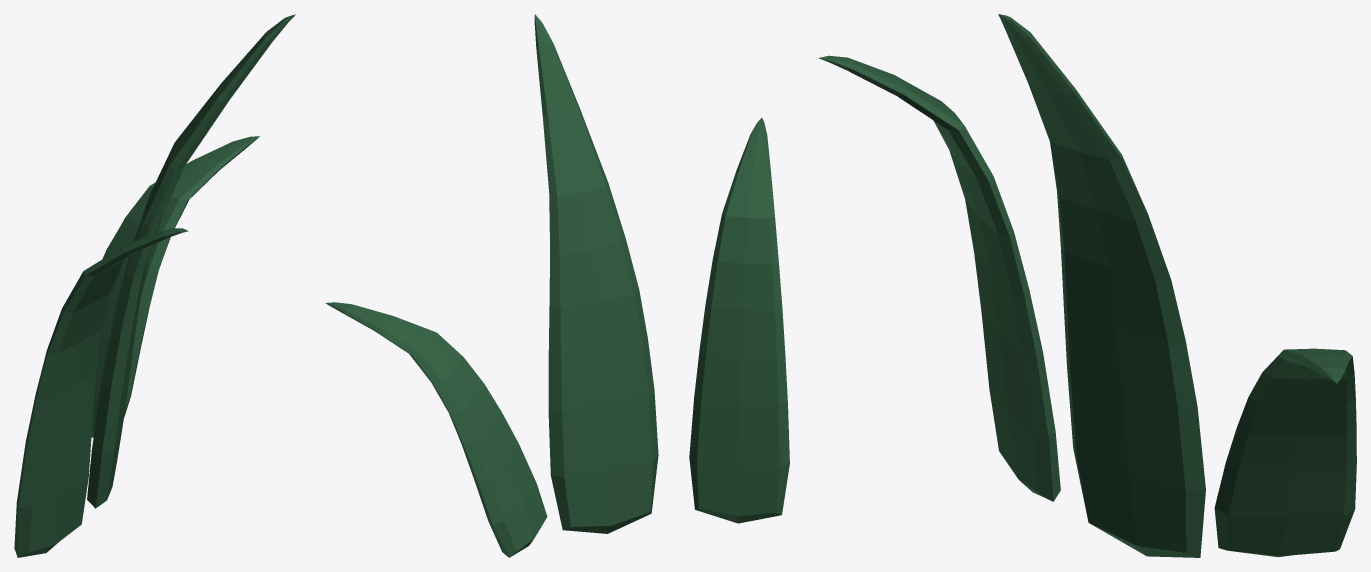
The model's file is hoja3.fbx.
The picture shows the model from 3 angles, left to right: view 1: azimuth 30°, elevation 25°; view 2: azimuth 150°, elevation 25°; view 3: azimuth 270°, elevation 25°; orthographic projection. The views are drawn at different scales.
Visible parts, largest first — view 1: TresPastos.003; view 2: TresPastos.003; view 3: TresPastos.003.
Part boxes in pixels (x1,y1,x2,y2): TresPastos.003: (14, 14, 295, 557); TresPastos.003: (325, 14, 789, 557); TresPastos.003: (818, 14, 1356, 557).
Size of the model in its own units: 17.49 by 21.95 by 17.06.
Materials: 1 (1 with a texture image).
